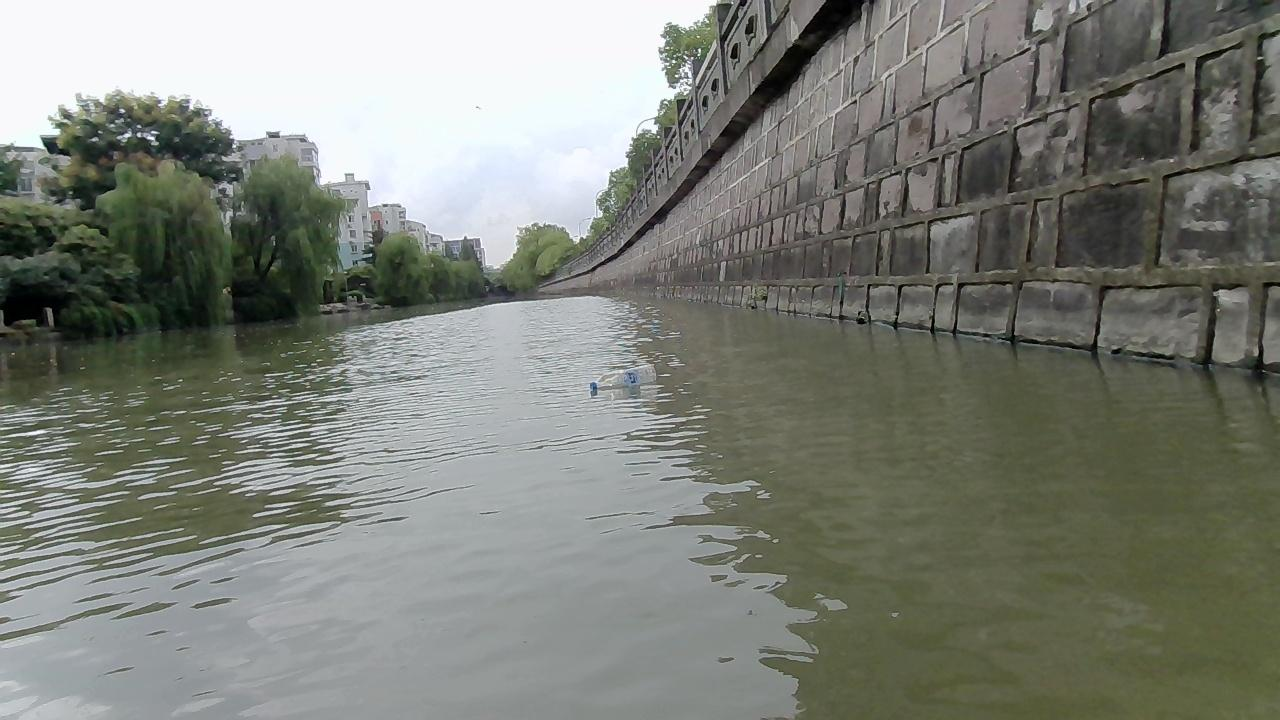bottle: (589, 362, 656, 390)
